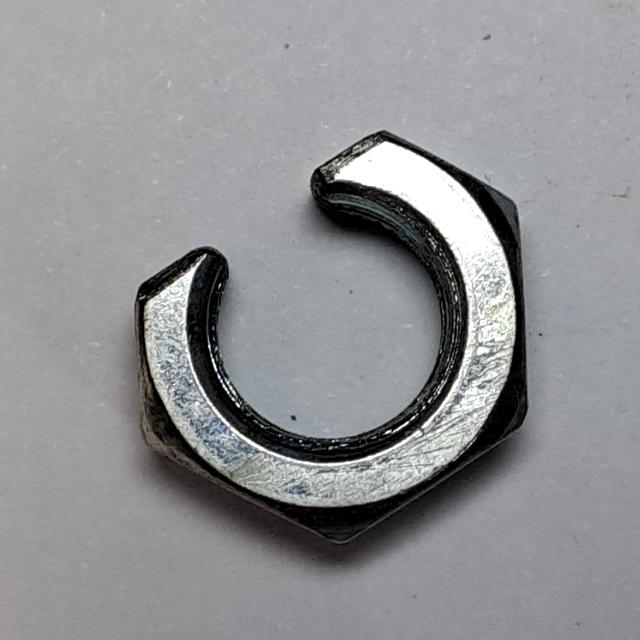Fracture: (115, 119, 541, 558)
